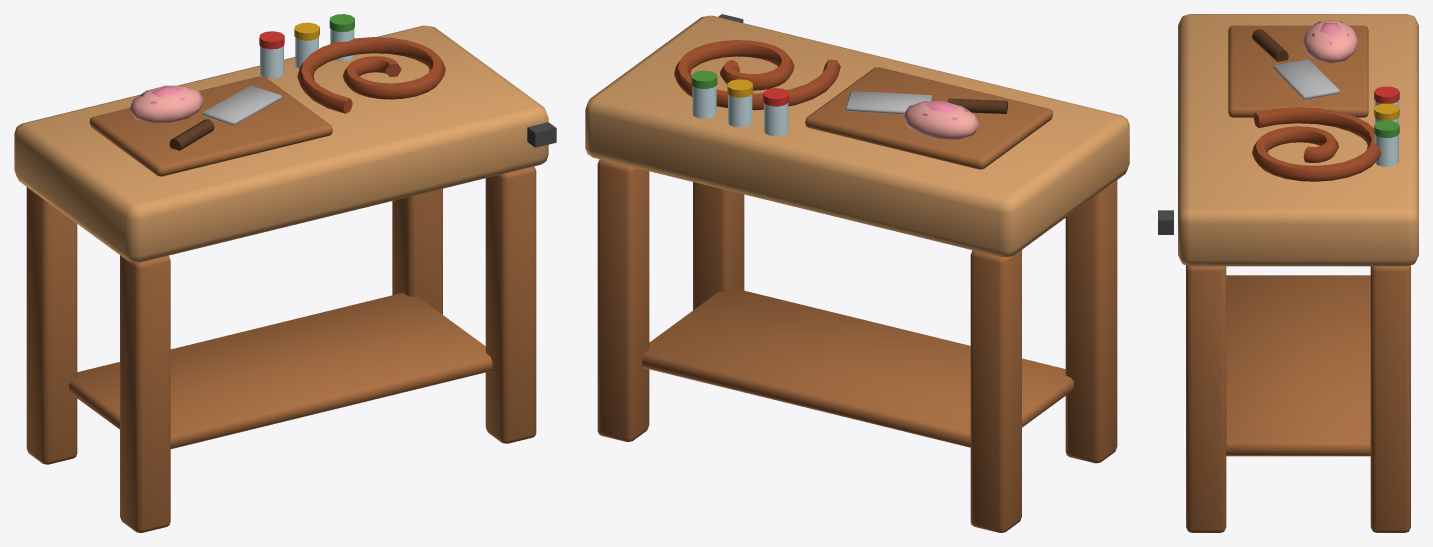
The model's file is bancada_acougue.glb.
3 views of the same model, side by side, from view 1: azimuth 30°, elevation 25°; view 2: azimuth 150°, elevation 25°; view 3: azimuth 270°, elevation 25° (orthographic). The views are drawn at different scales.
Parts seen in each view (by area): view 1: Bancada_Acougue; view 2: Bancada_Acougue; view 3: Bancada_Acougue.
Part boxes in pixels (<box>): Bancada_Acougue: <box>14,14,556,532</box>; Bancada_Acougue: <box>585,14,1129,532</box>; Bancada_Acougue: <box>1158,14,1418,532</box>.
Bounding box in the file's own units: 1.2 × 1 × 0.65.
